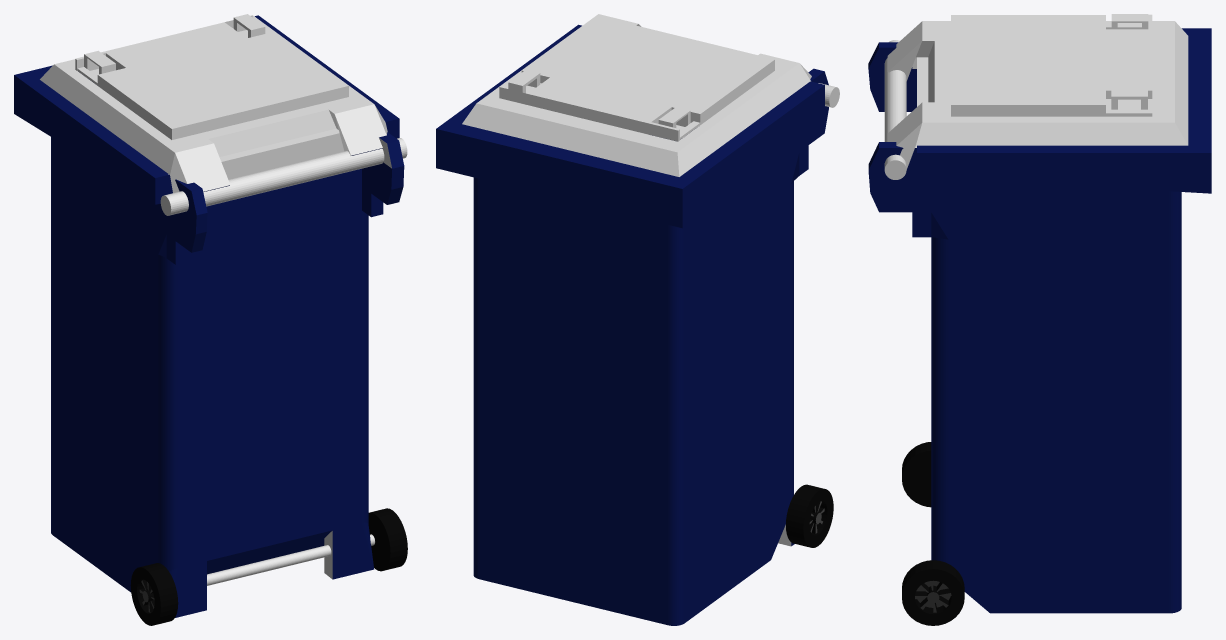
File: gomibako.gltf
3 views of the same model, side by side, from view 1: azimuth 30°, elevation 25°; view 2: azimuth 150°, elevation 25°; view 3: azimuth 270°, elevation 25° (orthographic). The views are drawn at different scales.
Visible parts, largest first — view 1: 立方体, 円柱.003, 円柱.002, 円柱.001, 円柱; view 2: 立方体, 円柱.002; view 3: 立方体, 円柱.001, 円柱.003, 円柱.002.
Part boxes in pixels (x1,y1,x2,y2): 立方体: [14, 14, 404, 617]; 円柱.003: [160, 138, 407, 215]; 円柱.002: [130, 563, 178, 625]; 円柱.001: [368, 508, 407, 571]; 円柱: [207, 534, 374, 585]; 立方体: [436, 14, 828, 625]; 円柱.002: [786, 484, 833, 547]; 立方体: [868, 14, 1211, 613]; 円柱.001: [902, 560, 964, 625]; 円柱.003: [884, 40, 906, 179]; 円柱.002: [902, 442, 931, 507].
Size of the model in its own units: 2.38 by 4.47 by 2.74.
